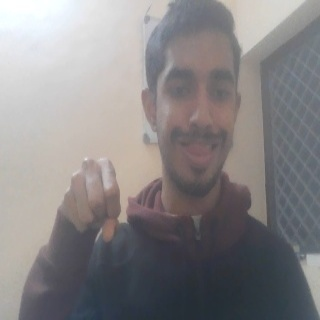Face: (138, 4, 243, 198)
Yes: (59, 156, 125, 246)
